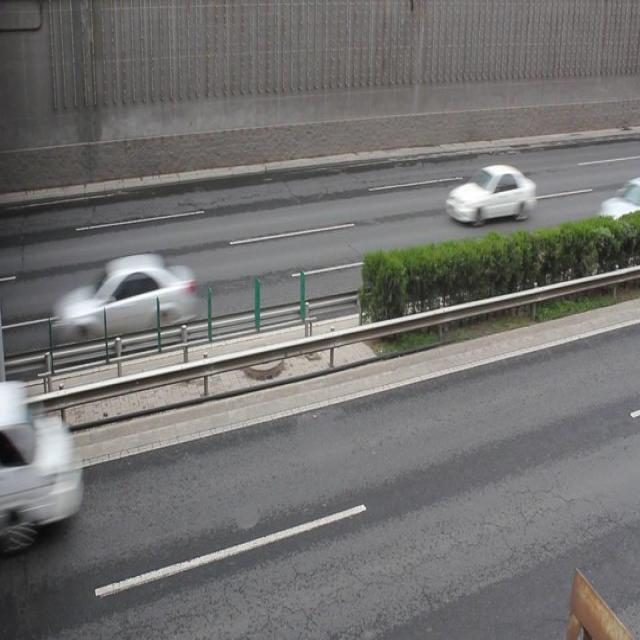car: (52, 250, 196, 343), (444, 163, 535, 225)
